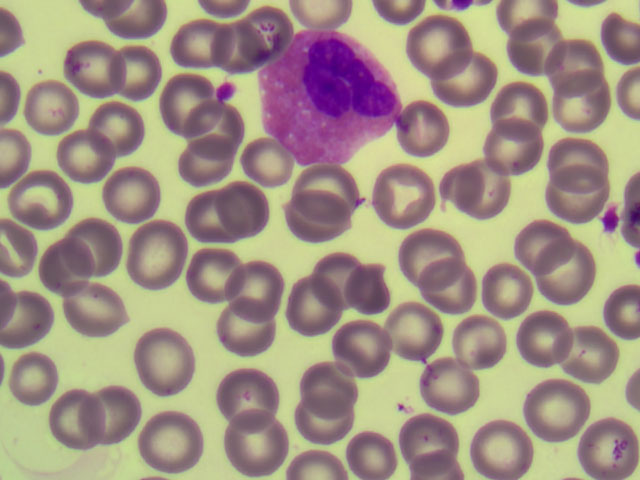Platelets: (213, 81, 242, 102), (603, 204, 620, 235)
RBC: (578, 418, 640, 480), (346, 418, 408, 480), (63, 40, 125, 101), (101, 38, 163, 99), (162, 16, 224, 77), (194, 10, 256, 71), (144, 70, 206, 131), (183, 98, 245, 159), (169, 121, 231, 182), (96, 93, 158, 154), (58, 119, 120, 180), (17, 81, 79, 142), (8, 167, 70, 228), (23, 238, 85, 299), (63, 211, 125, 272), (63, 276, 125, 337), (90, 164, 152, 225), (123, 223, 185, 284), (173, 186, 235, 247), (208, 178, 270, 239), (280, 190, 342, 251), (307, 157, 369, 218), (248, 120, 310, 181), (374, 161, 436, 222), (399, 98, 461, 159), (433, 56, 495, 117), (409, 8, 471, 69), (503, 13, 565, 74), (537, 21, 599, 82), (545, 84, 607, 145), (556, 137, 618, 198), (535, 175, 597, 236), (502, 202, 564, 263), (536, 247, 598, 308), (512, 298, 574, 359), (552, 324, 614, 385), (578, 289, 640, 350), (517, 372, 579, 433), (476, 415, 538, 476), (415, 362, 477, 423), (463, 262, 525, 323), (400, 411, 462, 472), (294, 391, 356, 452), (306, 354, 368, 415), (327, 320, 389, 381), (377, 303, 439, 364), (349, 253, 411, 314), (404, 211, 466, 272), (408, 258, 470, 319), (309, 244, 371, 305), (284, 281, 346, 342), (231, 257, 293, 318), (184, 247, 246, 308), (209, 312, 271, 373), (207, 362, 269, 423), (217, 409, 279, 470), (136, 412, 198, 473), (100, 382, 162, 443), (55, 386, 117, 447), (133, 325, 195, 386), (4, 342, 66, 403), (1, 287, 62, 348), (237, 1, 299, 61), (455, 316, 504, 367)
WBC: (264, 33, 401, 169)
